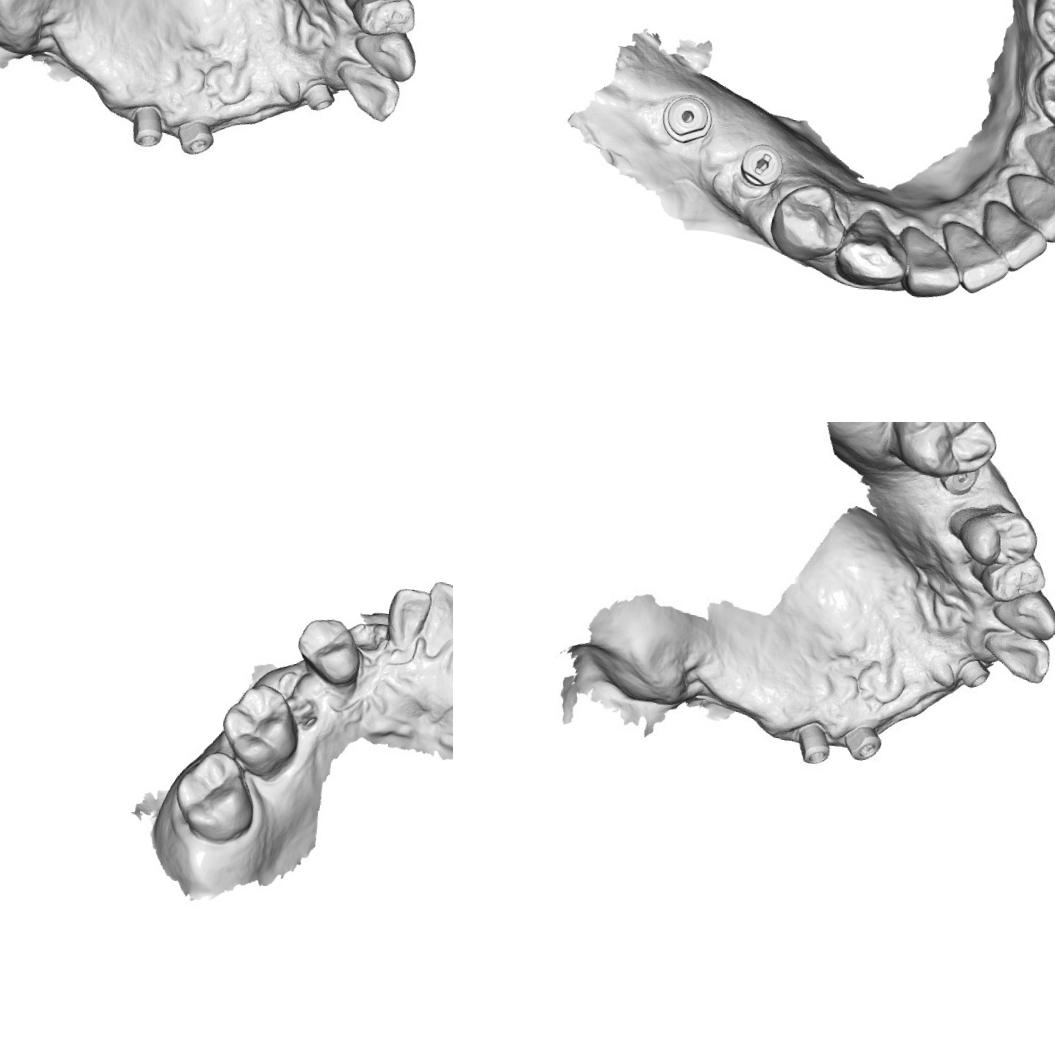canine: (832, 203, 914, 292), (349, 25, 422, 84), (986, 583, 1055, 643), (1018, 113, 1055, 198)
implant: (658, 89, 715, 148), (128, 98, 168, 152), (791, 720, 835, 768), (839, 721, 885, 765), (175, 116, 219, 158), (938, 463, 982, 502), (300, 76, 338, 115)
implant_minus: (735, 139, 785, 192)
incisor: (933, 216, 1015, 300), (975, 198, 1053, 276), (892, 223, 962, 306), (332, 56, 404, 126), (995, 167, 1055, 245), (978, 627, 1055, 687), (382, 584, 432, 652), (420, 576, 453, 649)
molar: (212, 676, 306, 781), (170, 744, 262, 848), (884, 422, 1005, 486)
premolar: (765, 176, 852, 266), (956, 502, 1043, 574), (290, 614, 369, 690), (982, 551, 1050, 606), (349, 0, 422, 39), (1024, 0, 1055, 65), (1029, 51, 1055, 128)
